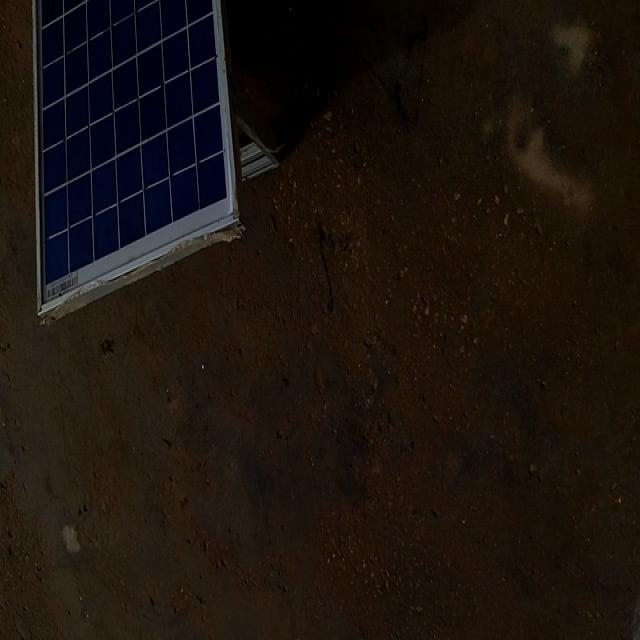Normal Solar Panel: (33, 0, 240, 316)
